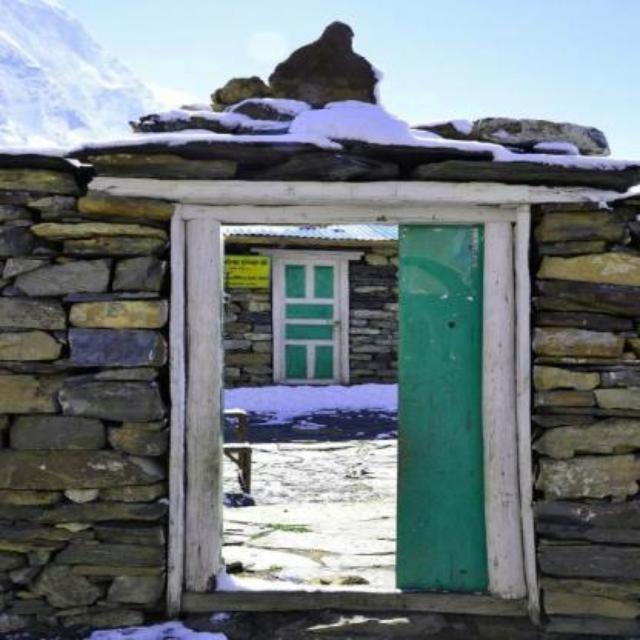door: (271, 253, 345, 385)
